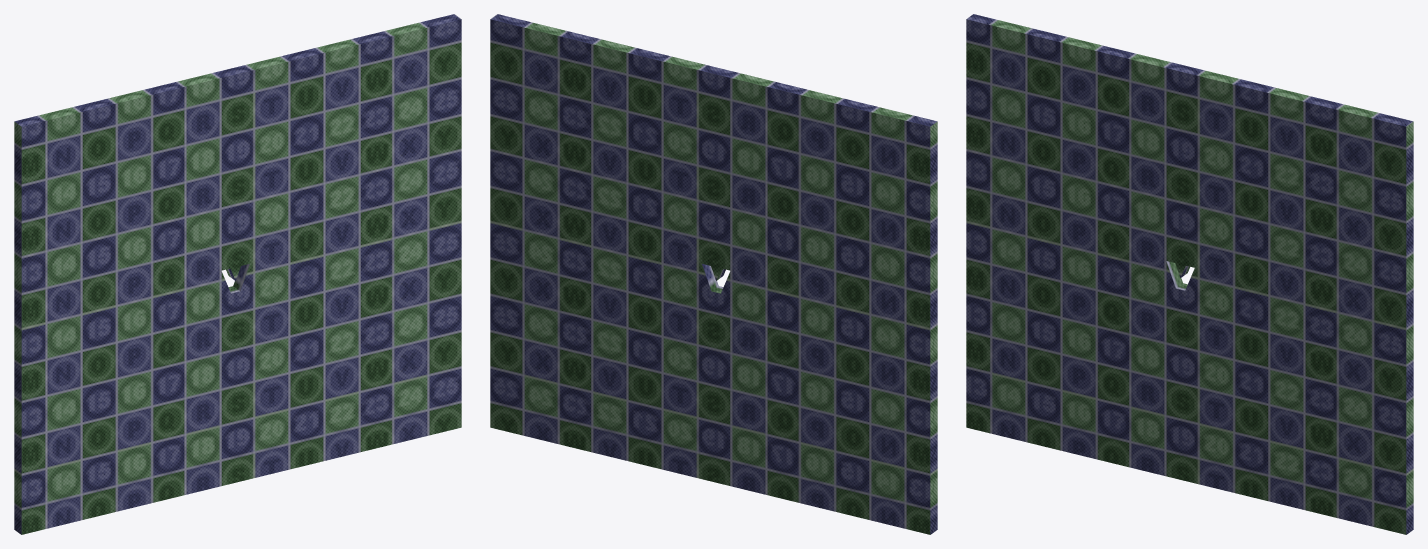
The model's file is Barriera_V.FBX.
3 renders of one model, left to right at view 1: azimuth 30°, elevation 25°; view 2: azimuth 150°, elevation 25°; view 3: azimuth 330°, elevation 25°, orthographic.
Parts seen in each view (by area): view 1: BARRIERA_V; view 2: BARRIERA_V; view 3: BARRIERA_V.
Boxes of the visible parts, x1=… form: BARRIERA_V: x1=14, y1=14, x2=461, y2=534; BARRIERA_V: x1=490, y1=14, x2=937, y2=534; BARRIERA_V: x1=966, y1=14, x2=1413, y2=534.
Bounding box in the file's own units: 3498 × 3100 × 100.
Materials: 1 (1 with a texture image).
